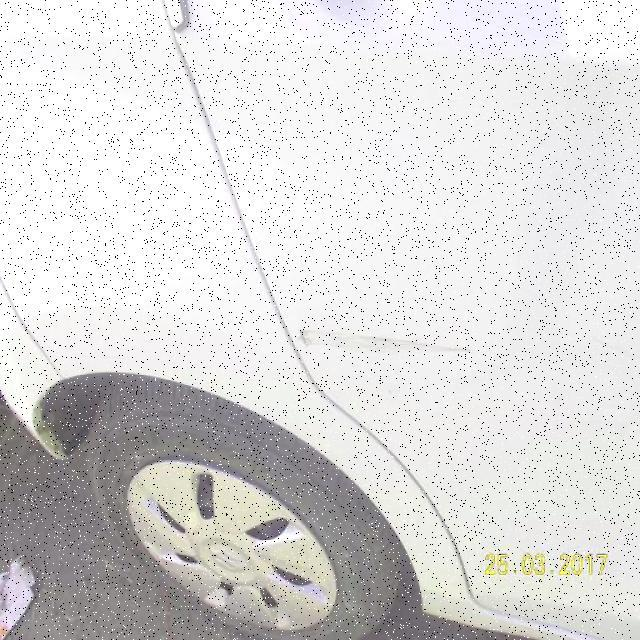car damage: (293, 326, 476, 357)
